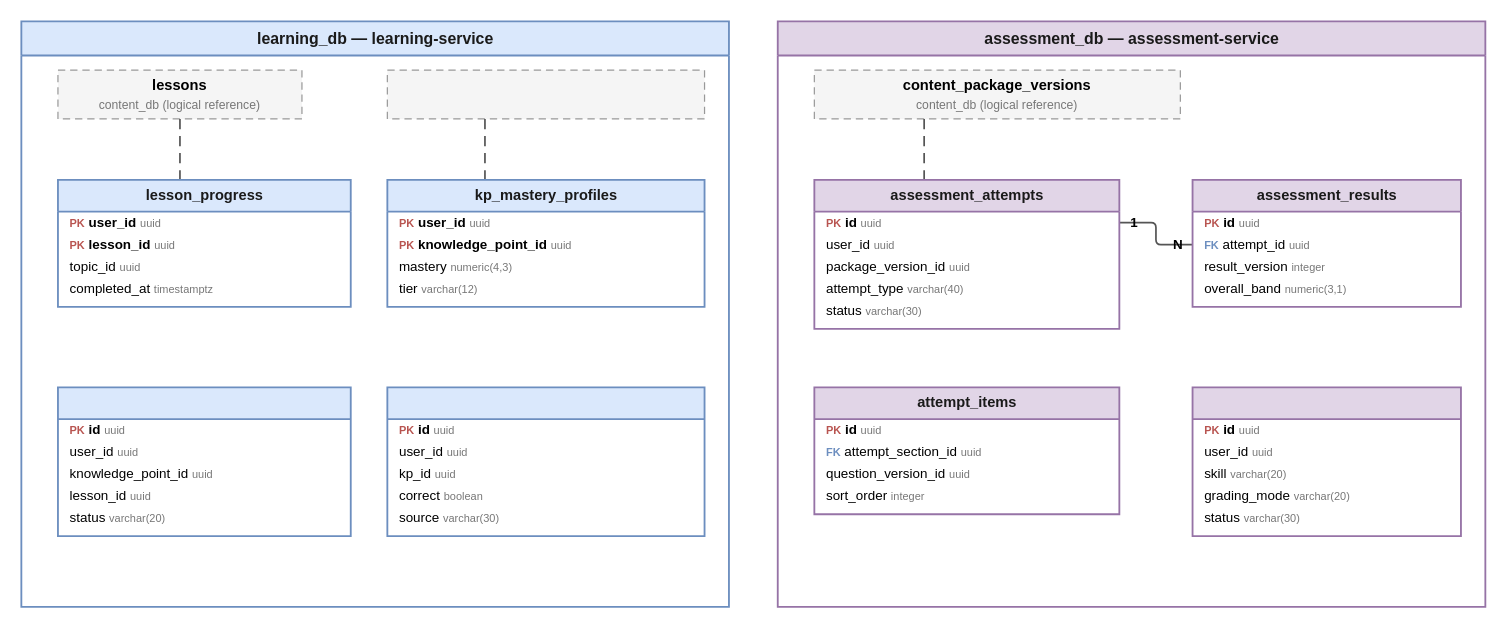
The diagram is 1508 pixels wide and 630 high, and some of its shapes have lost their labels. The box of each missing label's shape, as (x1, y1, x2, y2) in pixels:
grading_jobs: (1191, 386, 1461, 537)
knowledge_points content_db (logical reference): (386, 69, 705, 119)
kp_evidence: (386, 386, 705, 537)
review_items: (56, 386, 351, 537)
